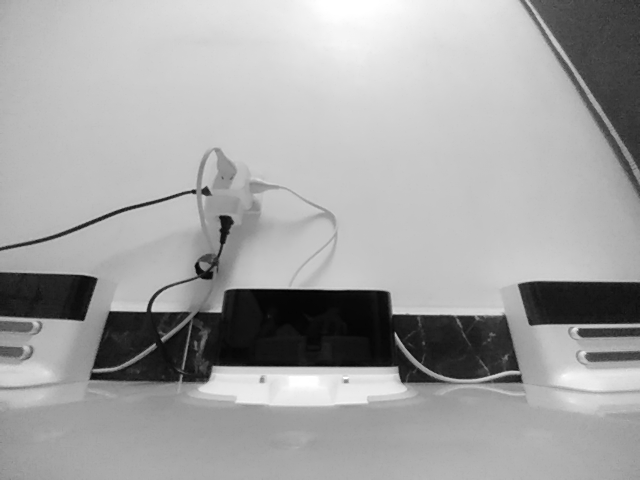Ruby: (1, 269, 120, 409), (497, 280, 640, 395)
TanosV: (194, 284, 414, 410)
wire: (91, 278, 212, 383), (396, 328, 523, 386)
